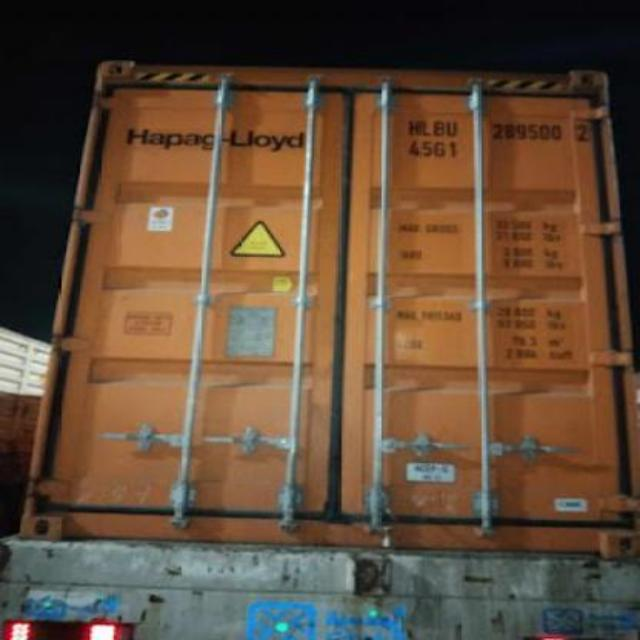0: (538, 118, 550, 146), (550, 118, 562, 146)
2: (572, 116, 590, 146), (488, 114, 502, 144)
5: (526, 119, 538, 143)
8: (502, 112, 516, 144)
9: (516, 112, 526, 148)
B: (432, 115, 444, 139)
H: (404, 108, 420, 142)
L: (420, 115, 432, 142)
U: (446, 115, 462, 139)
